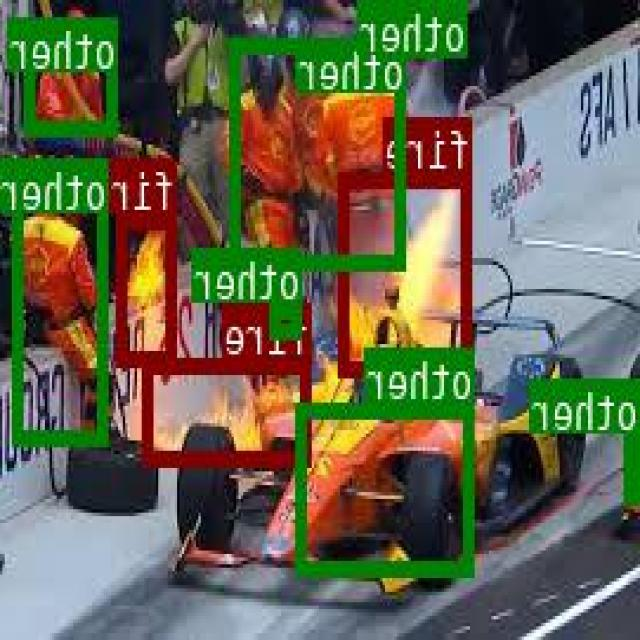fire: (341, 172, 474, 374), (146, 355, 314, 463), (119, 211, 180, 364)
other: (233, 36, 408, 266), (299, 400, 476, 572), (15, 157, 110, 441), (28, 15, 119, 132), (379, 0, 469, 55), (272, 302, 304, 334), (626, 430, 640, 502)
